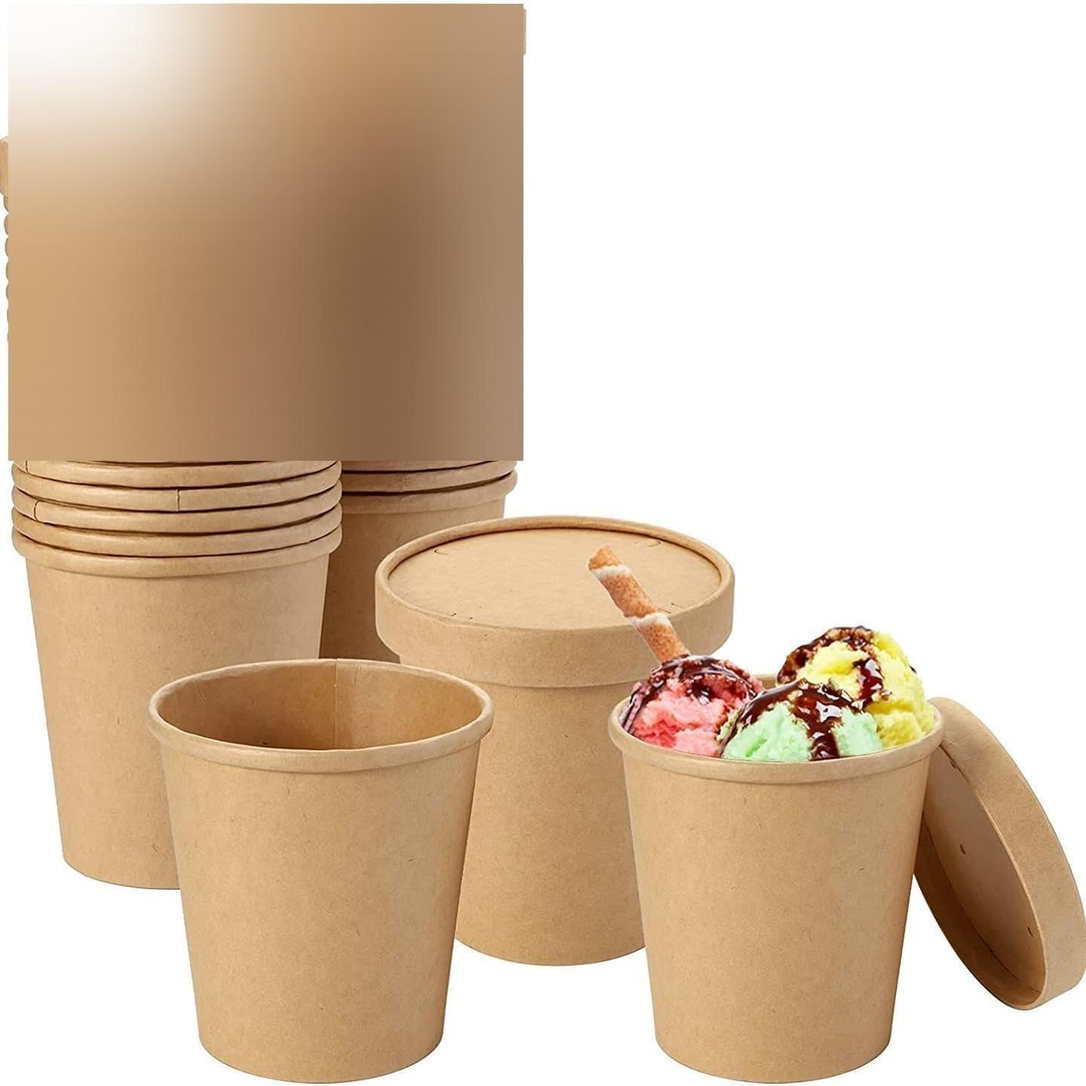cup-disposable: (376, 507, 750, 980), (149, 650, 505, 1086), (609, 647, 953, 1086), (8, 520, 369, 893)
